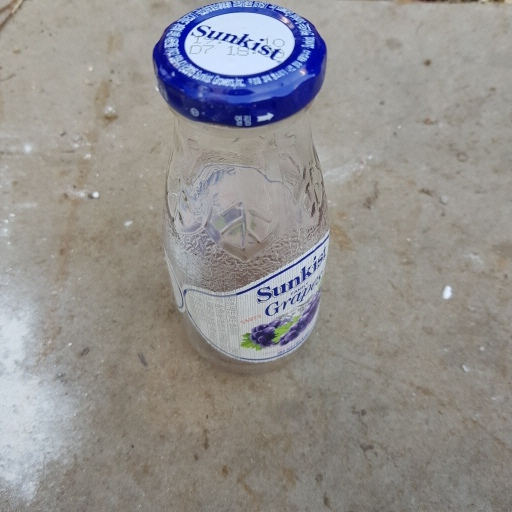Glass_4: (150, 1, 338, 377)
